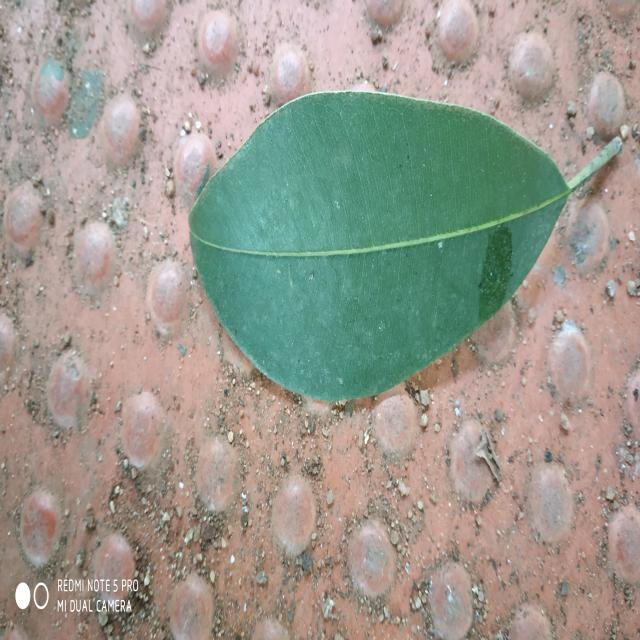sapota: (189, 91, 571, 400)
